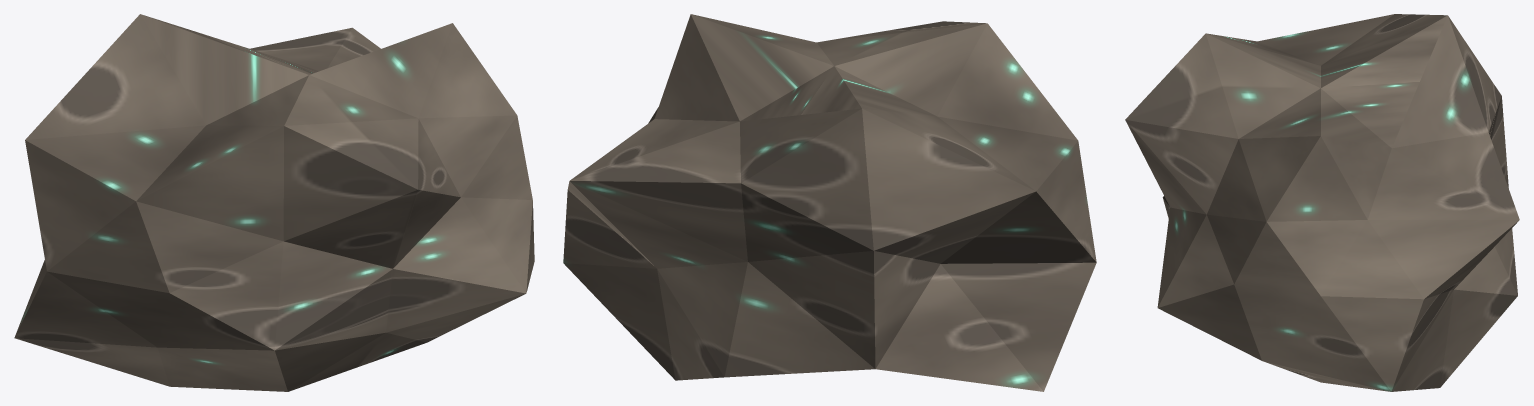
Rendered from chunk1.obj.
3 renders of one model, left to right at view 1: azimuth 30°, elevation 25°; view 2: azimuth 150°, elevation 25°; view 3: azimuth 270°, elevation 25°, orthographic. The views are drawn at different scales.
Parts seen in each view (by area): view 1: rock; view 2: rock; view 3: rock.
Boxes of the visible parts, bbox=[...] form: rock: bbox=[14, 14, 534, 391]; rock: bbox=[563, 14, 1096, 391]; rock: bbox=[1125, 14, 1519, 391].
Bounding box in the file's own units: 1.96 × 1.22 × 1.51.
1 material, 1 textured.
